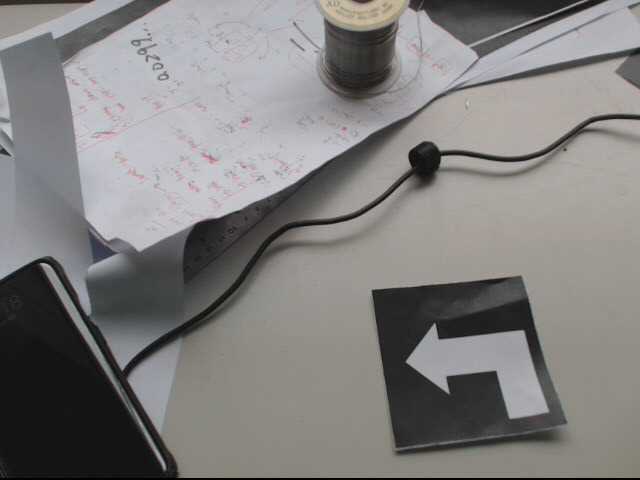left: (372, 276, 573, 451)
